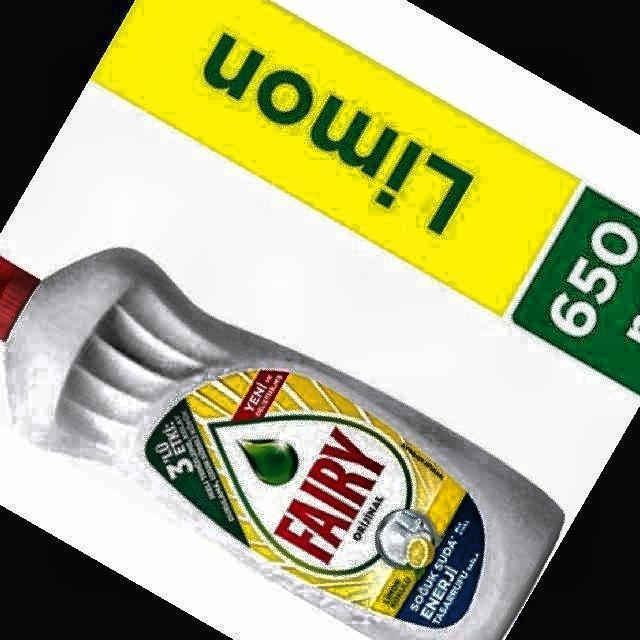plastic: (0, 248, 564, 640)
